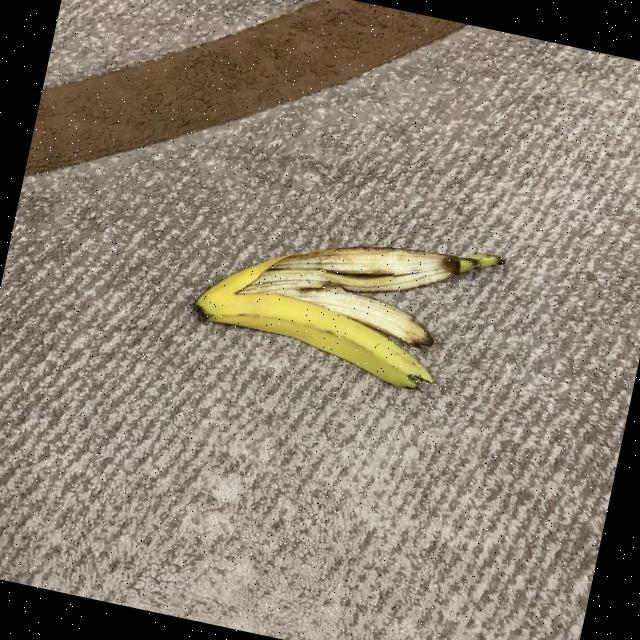banana-peel: (184, 192, 507, 404)
